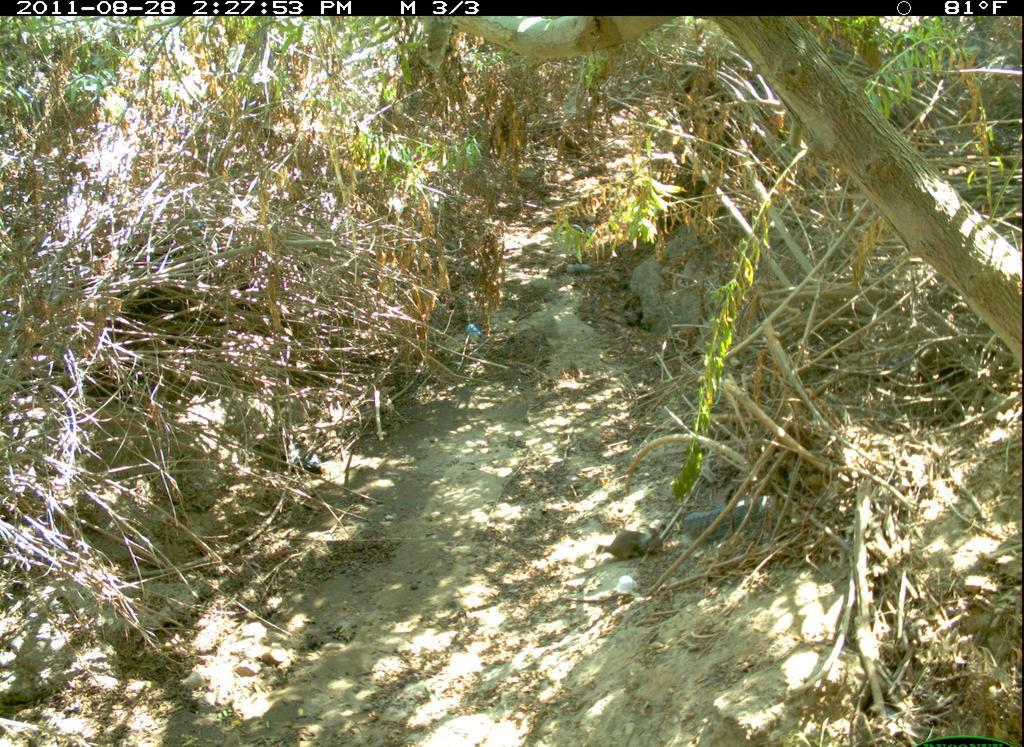squirrel: (585, 518, 670, 577)
